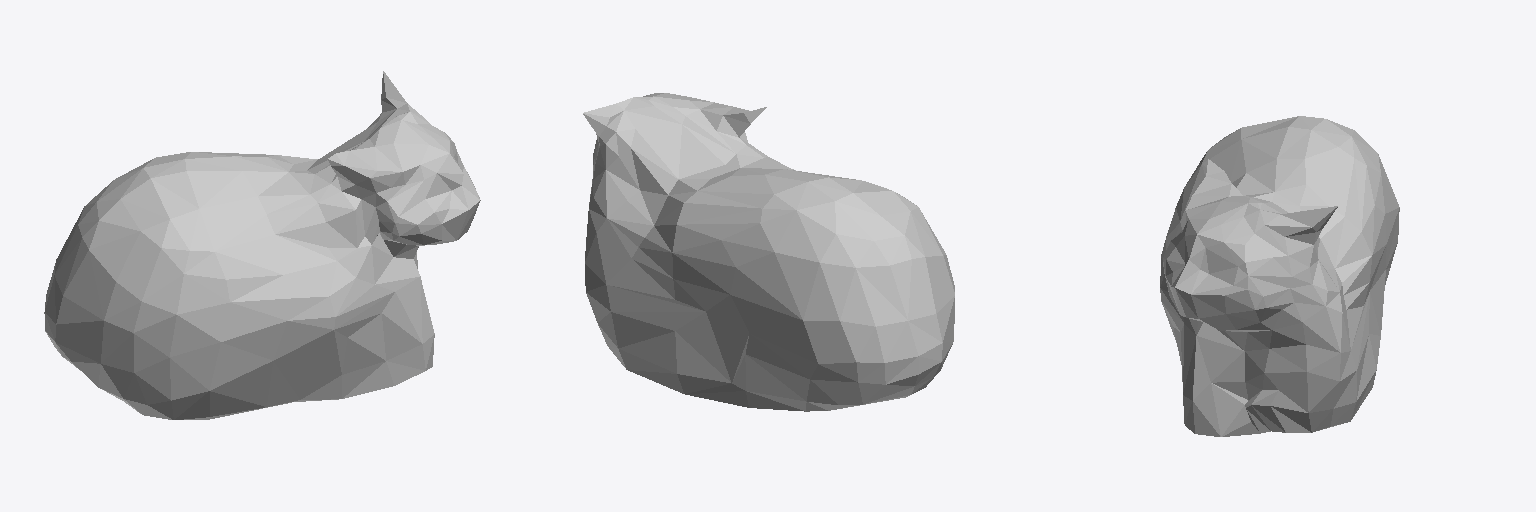
Rendered from maxwell.obj.
3 views of the same model, side by side, from view 1: azimuth 30°, elevation 25°; view 2: azimuth 150°, elevation 25°; view 3: azimuth 270°, elevation 25° (orthographic).
Visible parts, largest first — view 1: dingus_dingus_0; view 2: dingus_dingus_0; view 3: dingus_dingus_0.
Boxes of the visible parts, box(x1,y1,x2,y2) form: dingus_dingus_0: box(44, 71, 480, 419); dingus_dingus_0: box(583, 93, 954, 411); dingus_dingus_0: box(1160, 116, 1399, 436).
Bounding box in the file's own units: 1.01 × 0.6488 × 0.5569.